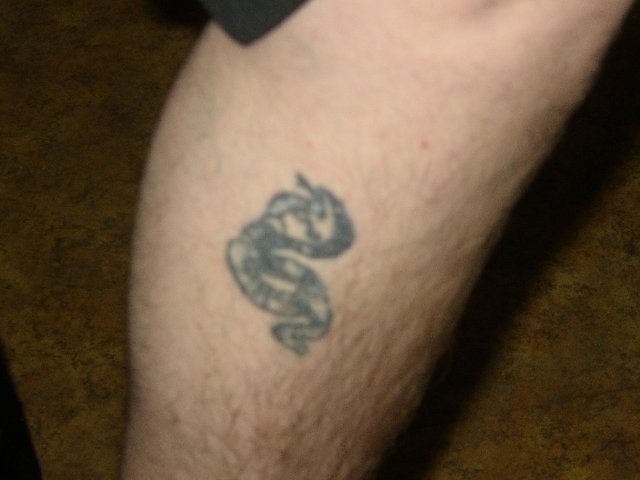tatu7_zmeya: (219, 145, 359, 383)
